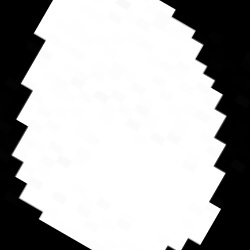spot: (13, 3, 226, 249)
